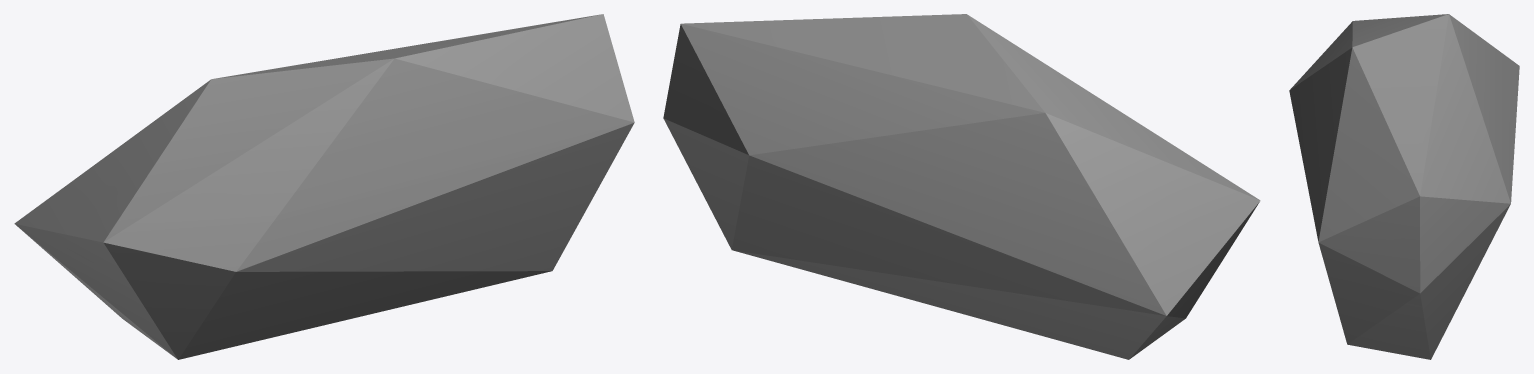
The model's file is rock_small_long.fbx.
The picture shows the model from 3 angles, left to right: view 1: azimuth 30°, elevation 25°; view 2: azimuth 150°, elevation 25°; view 3: azimuth 270°, elevation 25°; orthographic projection. The views are drawn at different scales.
Parts seen in each view (by area): view 1: rock_small_long; view 2: rock_small_long; view 3: rock_small_long.
Part boxes in pixels (box(x1,y1,x2,y2)): rock_small_long: box(14, 14, 634, 359); rock_small_long: box(663, 14, 1260, 359); rock_small_long: box(1289, 14, 1519, 359).
Size of the model in its own units: 0.7 by 0.3 by 0.275.
1 material, 1 textured.
